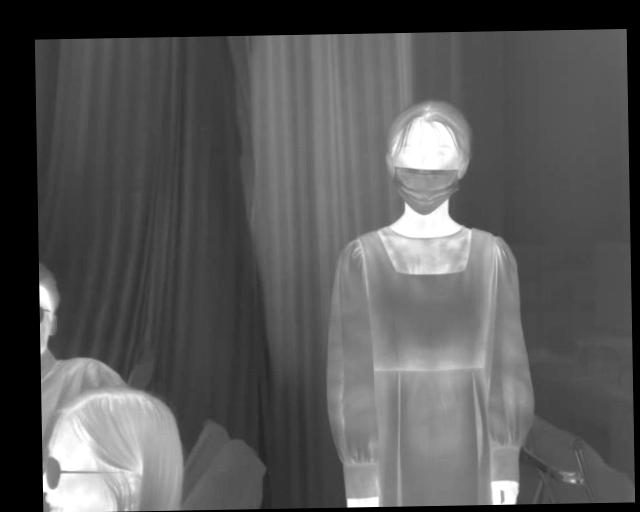face: (382, 98, 476, 218)
